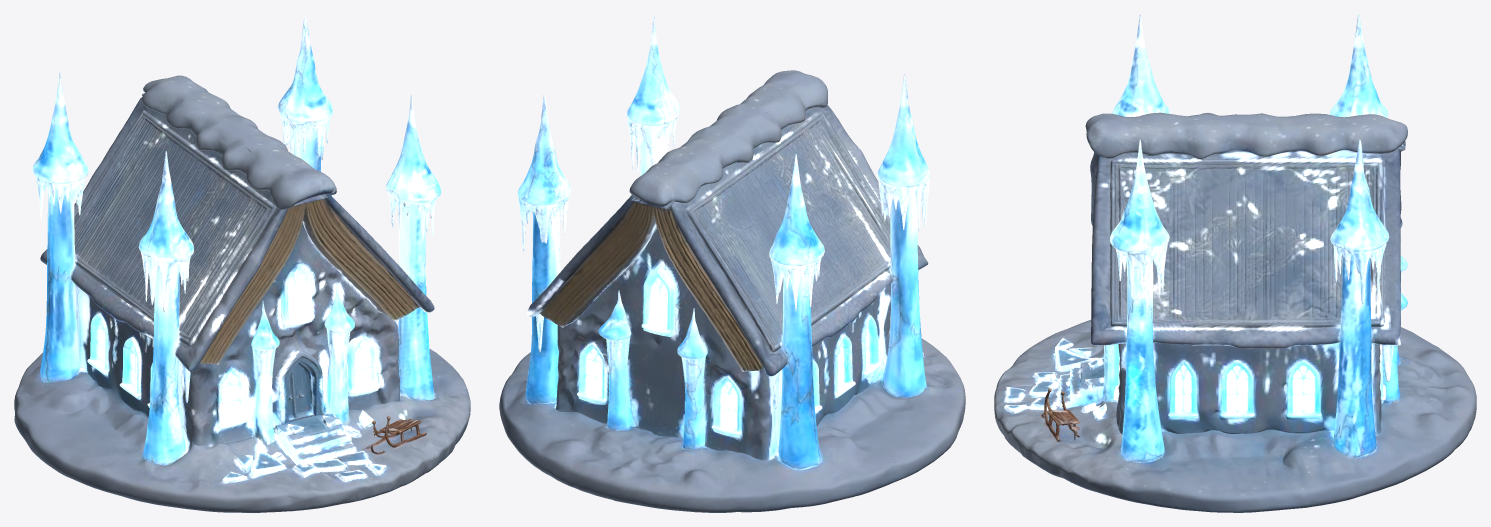
File: snow-queen.glb
3 renders of one model, left to right at view 1: azimuth 30°, elevation 25°; view 2: azimuth 150°, elevation 25°; view 3: azimuth 270°, elevation 25°, orthographic. The views are drawn at different scales.
Visible parts, largest first — view 1: model; view 2: model; view 3: model.
Boxes of the visible parts, box(x1,y1,x2,y2) form: model: box(14, 14, 470, 512); model: box(499, 14, 965, 512); model: box(994, 14, 1476, 512).
Size of the model in its own units: 1.85 by 1.48 by 1.9.
Materials: 1 (1 with a texture image).
